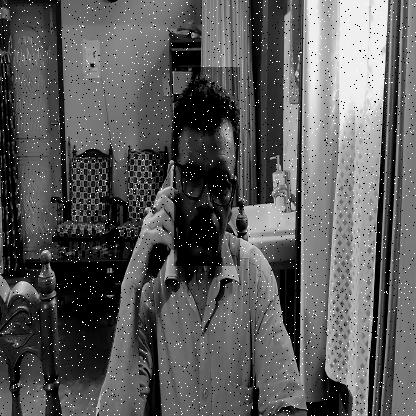Normal: (174, 67, 240, 266)
